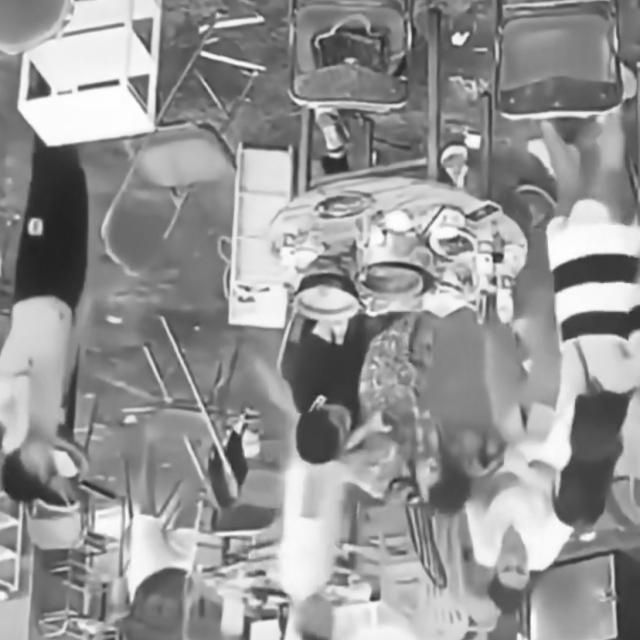fight: (361, 398, 599, 541)
nofight: (5, 132, 126, 503), (531, 90, 631, 454), (253, 448, 366, 636)
